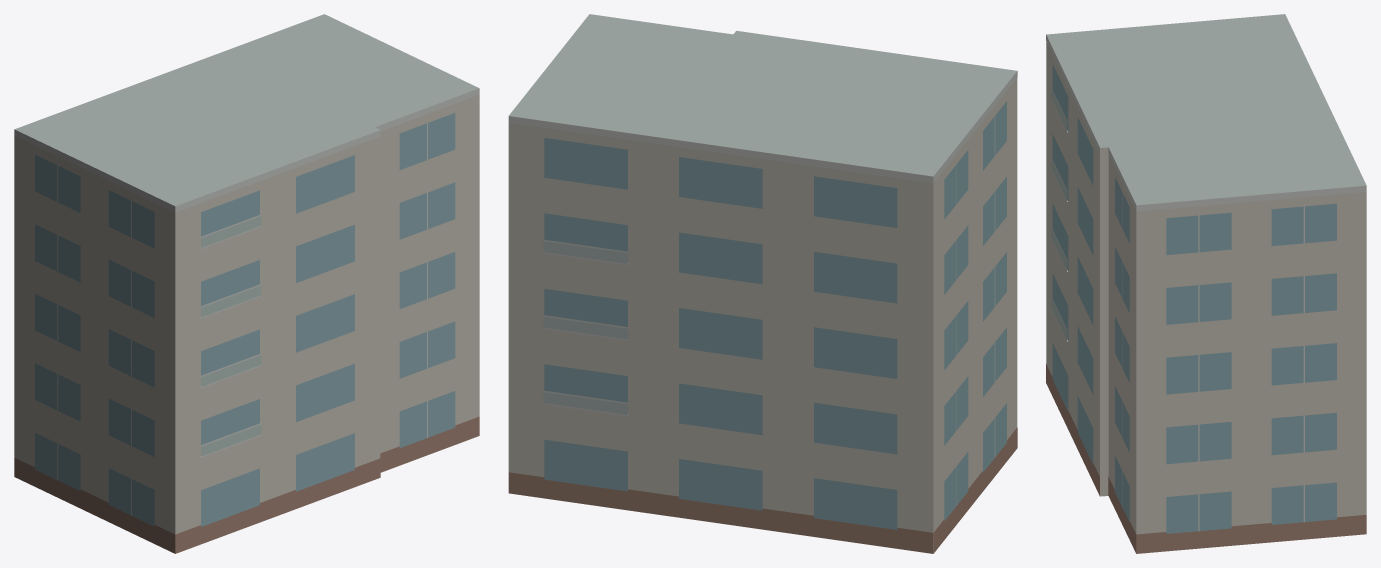
File: survey-upis-33035703.glb
The picture shows the model from 3 angles, left to right: view 1: azimuth 30°, elevation 25°; view 2: azimuth 150°, elevation 25°; view 3: azimuth 270°, elevation 25°; orthographic projection. The views are drawn at different scales.
Parts seen in each view (by area): view 1: survey-upis-33035703.tmp; view 2: survey-upis-33035703.tmp; view 3: survey-upis-33035703.tmp.
Boxes of the visible parts, bbox=[...] form: survey-upis-33035703.tmp: bbox=[14, 14, 479, 553]; survey-upis-33035703.tmp: bbox=[508, 14, 1017, 553]; survey-upis-33035703.tmp: bbox=[1046, 14, 1366, 553].
Bounding box in the file's own units: 15.84 × 13.45 × 11.22.
